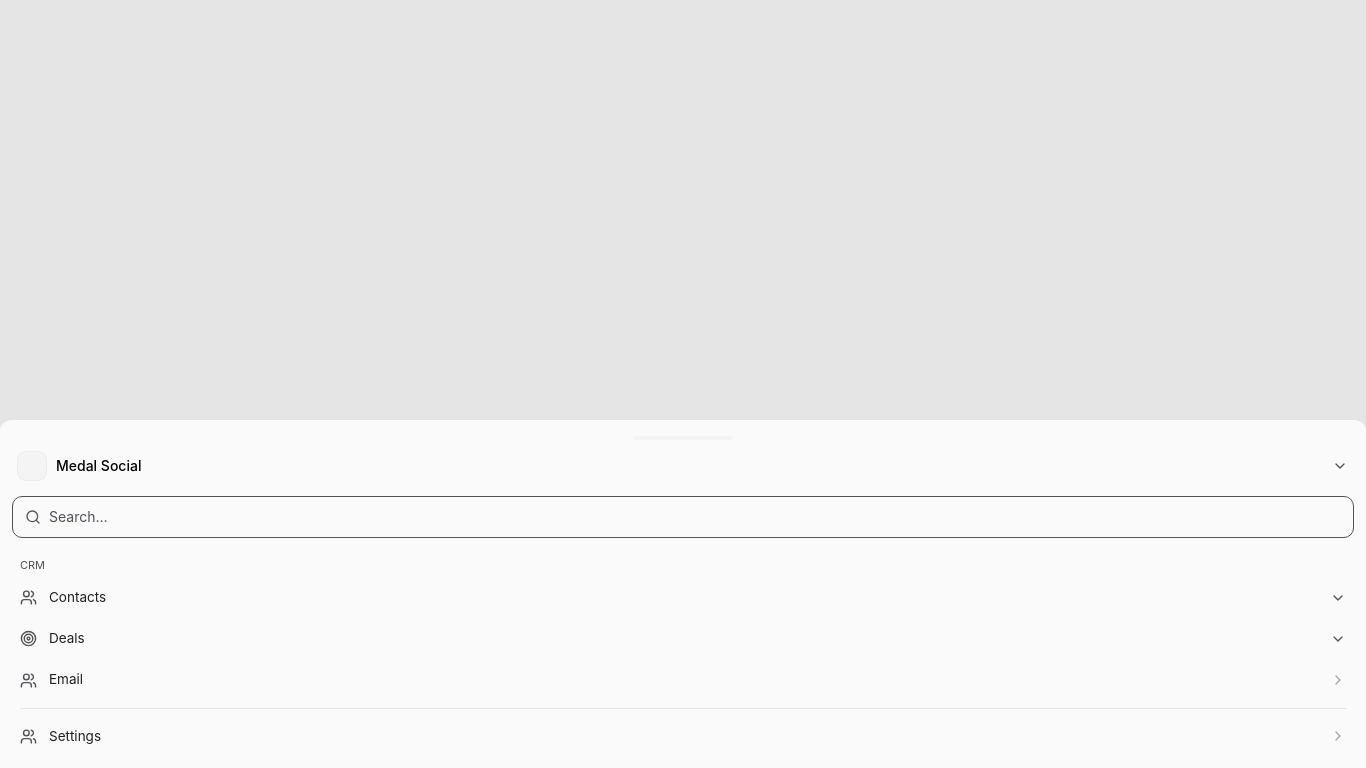
Test: MobileWorkspaceSheet › expands one submodule at a time (accordion) and navigates to a preset
This screenshot has width=1366, height=768.
Expand Deals → its presets appear.
What coordinates should you click on to do the following:
click the button "Deals"
I would click on:
 (67, 638)
Its box is top-left (12, 619), bottom-right (1354, 658).
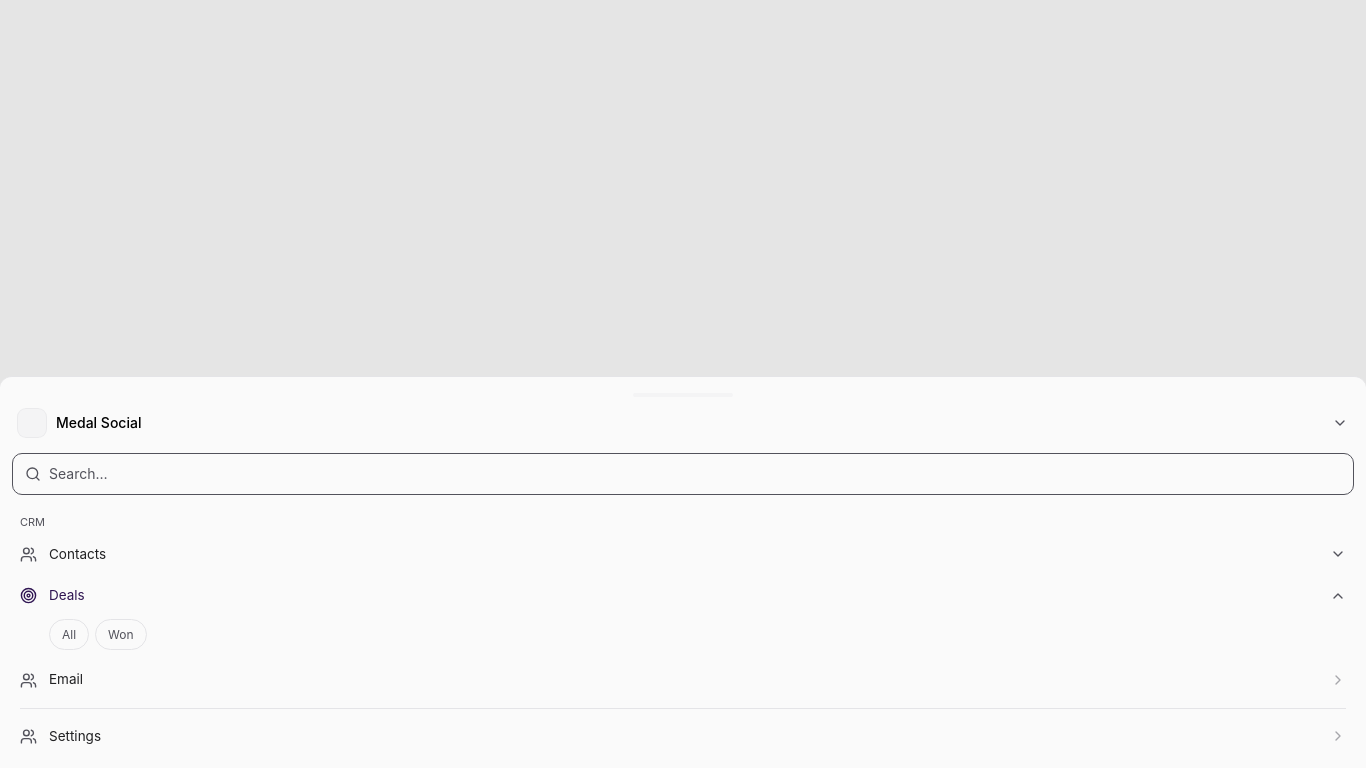
Expand Contacts → Deals collapses (one open at a time).
What coordinates should you click on to do the following:
click the button "Contacts"
I would click on:
 (78, 554)
Its box is top-left (12, 535), bottom-right (1354, 574).
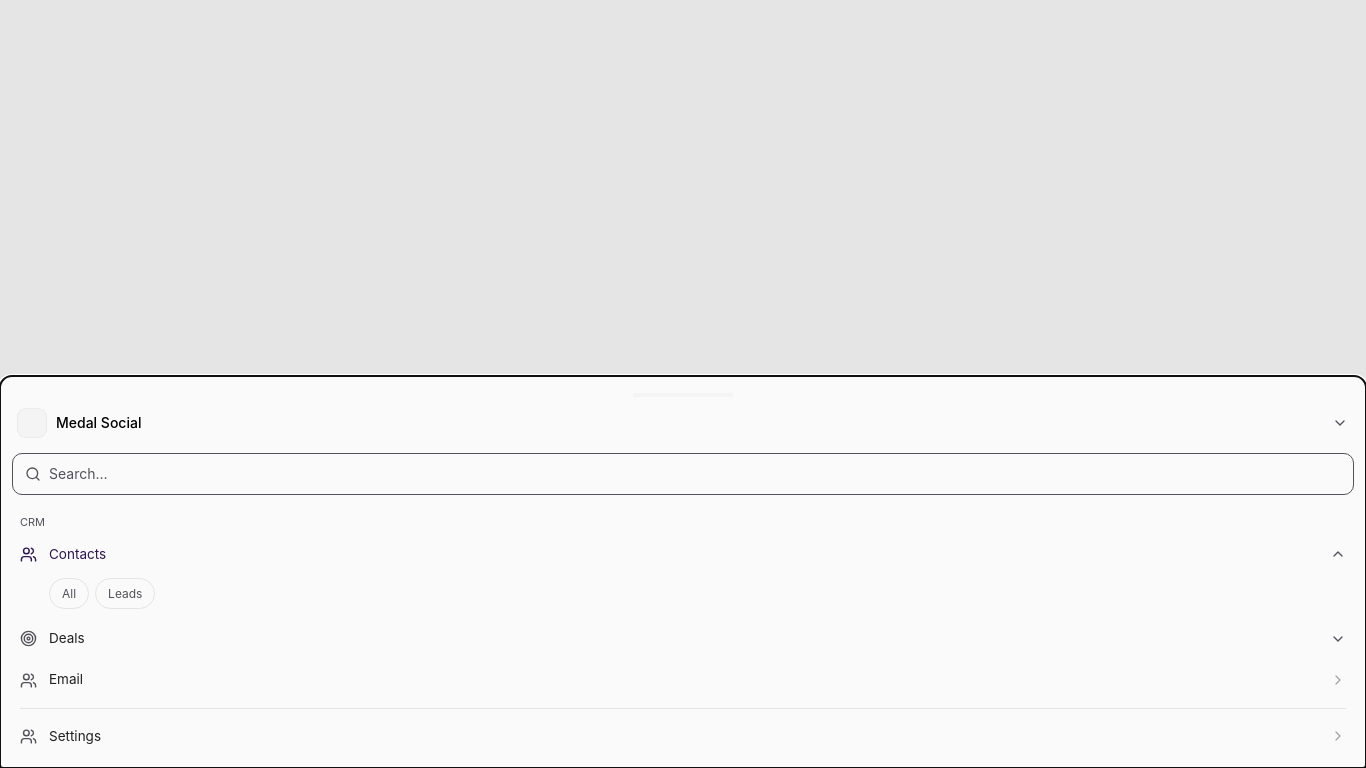
Now the link with aria-label "Contacts · Leads" is shown, box top-left (95, 578), bottom-right (155, 609)
